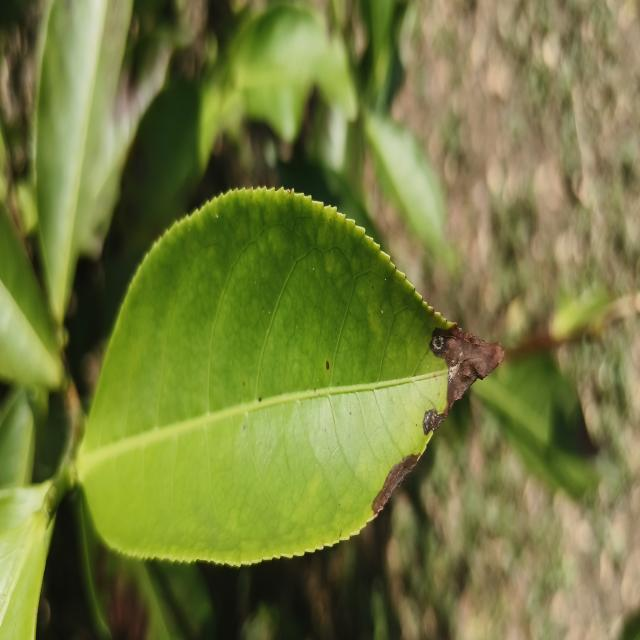Leaf: (77, 188, 504, 565), (35, 0, 132, 323), (102, 79, 218, 326), (471, 352, 599, 497), (227, 3, 356, 142), (365, 112, 453, 266), (0, 205, 63, 388), (0, 512, 47, 640)
